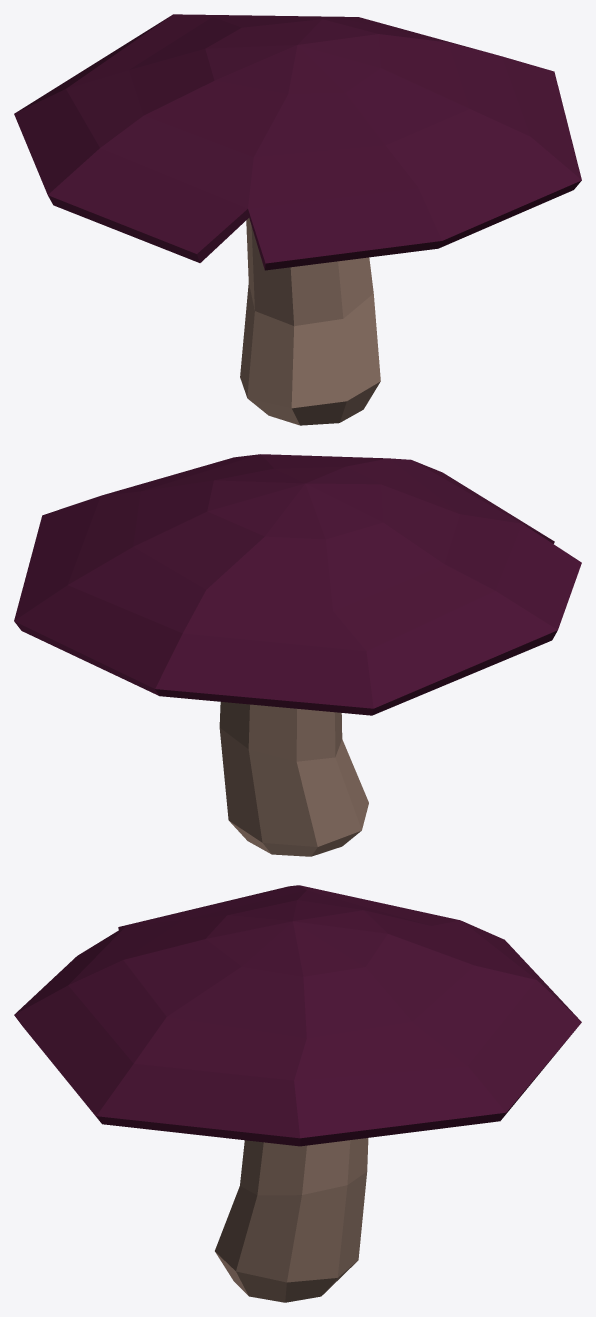
File: PurpleMushroom.fbx
3 renders of one model, top to bottom at view 1: azimuth 30°, elevation 25°; view 2: azimuth 150°, elevation 25°; view 3: azimuth 270°, elevation 25°, orthographic.
Visible parts, largest first — view 1: PurpleMushroom; view 2: PurpleMushroom; view 3: PurpleMushroom.
Boxes of the visible parts, x1,y1,x2,y2 form: PurpleMushroom: (14,14,581,425); PurpleMushroom: (14,454,581,856); PurpleMushroom: (14,885,581,1302).
Size of the model in its own units: 0.5609 by 0.3763 by 0.5461.
